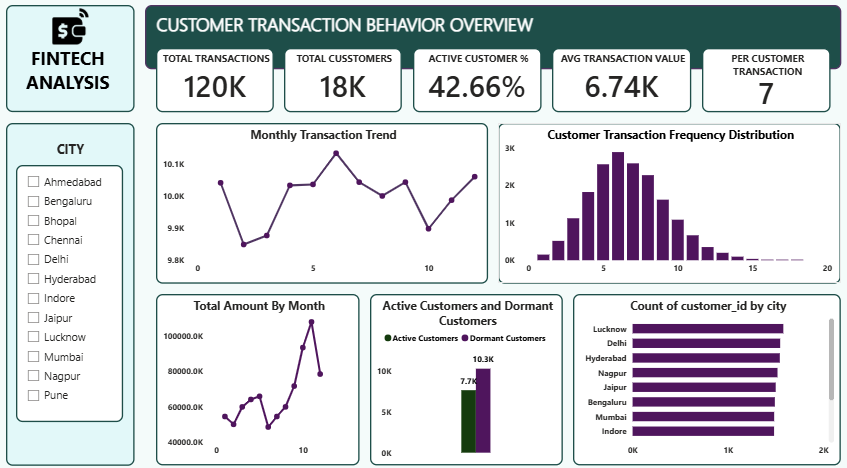

Layout of this report page (visuals, bound fields, positions):
{"tool":"powerbi","page":{"name":"overview","canvas":[1280,720],"ordinal":0},"visuals":[{"type":"textbox","box":[16,16,192,160],"z":0},{"type":"image","box":[80,16,64,64],"z":1000},{"type":"textbox","box":[16,192,192,512],"z":2000},{"type":"textbox","box":[224,16,1040,96],"z":3000},{"type":"card","title":"TOTAL CUSSTOMERS","fields":{"Values":["transactions.Total Customers"]},"box":[432,80,176,96],"z":4000},{"type":"card","title":"AVG TRANSACTION VALUE","fields":{"Values":["transactions.Avg Transaction Value"]},"box":[832,80,208,96],"z":5000},{"type":"card","title":"PER CUSTOMER TRANSACTION","fields":{"Values":["transactions.Avg Transactions per Customer"]},"box":[1056,80,192,96],"z":6000},{"type":"card","title":"TOTAL TRANSACTIONS","fields":{"Values":["transactions.Total Transactions"]},"box":[240,80,176,96],"z":7000},{"type":"card","title":"ACTIVE CUSTOMER %","fields":{"Values":["transactions.Customer Activity Rate %"]},"box":[624,80,192,96],"z":8000},{"type":"lineChart","title":"Monthly Transaction Trend","fields":{"Y":["Sum(monthly_transaction_behavior.total_transactions)"],"Category":["monthly_transaction_behavior.month"]},"box":[240,192,496,240],"z":9000},{"type":"clusteredBarChart","fields":{"Category":["customers.city"],"Y":["CountNonNull(customers.customer_id)"]},"box":[864,448,400,256],"z":10000},{"type":"columnChart","title":"Customer Transaction Frequency Distribution","fields":{"Y":["Count(customer_transaction_summary.customer_id)"],"Category":["customer_transaction_summary.total_transactions"]},"box":[752,192,512,240],"z":11000},{"type":"clusteredColumnChart","fields":{"Y":["transactions.Active Customers","transactions.Dormant Customers"]},"box":[560,448,288,256],"z":12000},{"type":"slicer","fields":{"Values":["customers.city"]},"box":[32,256,160,384],"z":13000},{"type":"lineChart","title":"Total Amount By Month","fields":{"Y":["Sum(monthly_transaction_behavior.total_amount)"],"Category":["monthly_transaction_behavior.month"]},"box":[240,448,304,256],"z":15000}]}

Visuals, with their boxes in screenshot pixels (x1, y1, x2, y2), scaled from the page's 1280x720 canvas onto the 847x468 screenshot:
textbox: pyautogui.locateOnScreen(11, 10, 138, 114)
image: pyautogui.locateOnScreen(53, 10, 95, 52)
textbox: pyautogui.locateOnScreen(11, 125, 138, 458)
textbox: pyautogui.locateOnScreen(148, 10, 836, 73)
"TOTAL CUSSTOMERS" card: pyautogui.locateOnScreen(286, 52, 402, 114)
"AVG TRANSACTION VALUE" card: pyautogui.locateOnScreen(551, 52, 688, 114)
"PER CUSTOMER TRANSACTION" card: pyautogui.locateOnScreen(699, 52, 826, 114)
"TOTAL TRANSACTIONS" card: pyautogui.locateOnScreen(159, 52, 275, 114)
"ACTIVE CUSTOMER %" card: pyautogui.locateOnScreen(413, 52, 540, 114)
"Monthly Transaction Trend" lineChart: pyautogui.locateOnScreen(159, 125, 487, 281)
clusteredBarChart - customers.city x CountNonNull(customers.customer_id): pyautogui.locateOnScreen(572, 291, 836, 458)
"Customer Transaction Frequency Distribution" columnChart: pyautogui.locateOnScreen(498, 125, 836, 281)
clusteredColumnChart - transactions.Active Customers x transactions.Dormant Customers: pyautogui.locateOnScreen(371, 291, 561, 458)
slicer - customers.city: pyautogui.locateOnScreen(21, 166, 127, 416)
"Total Amount By Month" lineChart: pyautogui.locateOnScreen(159, 291, 360, 458)
